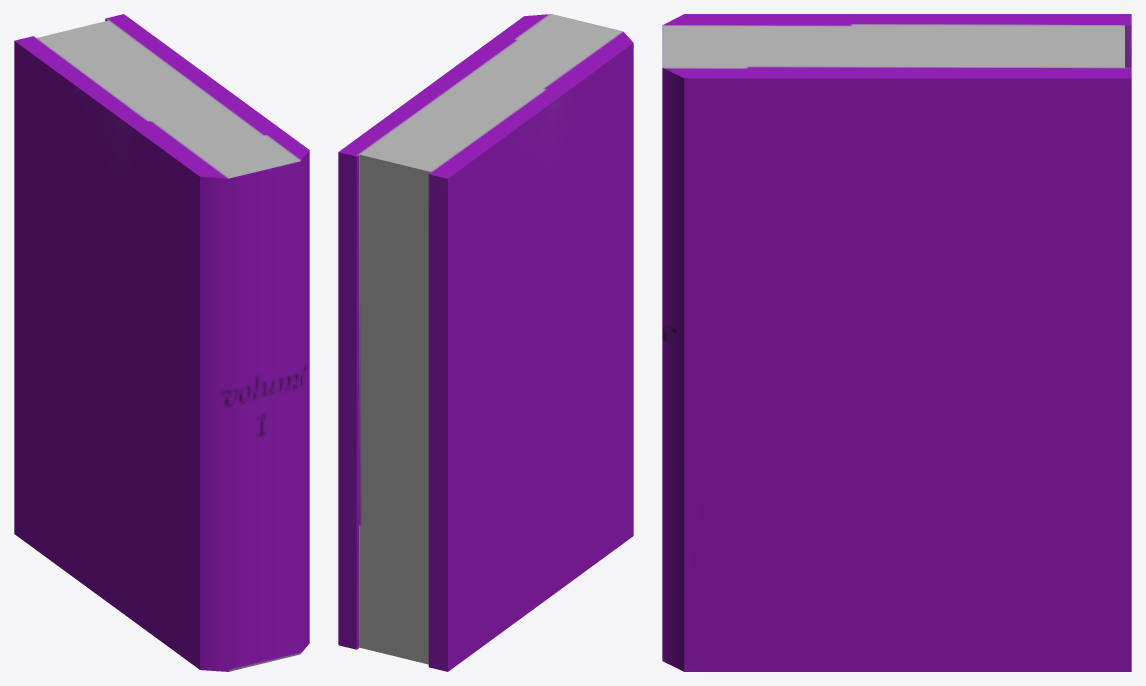
File: book exp resend.fbx
3 views of the same model, side by side, from view 1: azimuth 30°, elevation 25°; view 2: azimuth 150°, elevation 25°; view 3: azimuth 270°, elevation 25° (orthographic). The views are drawn at different scales.
Parts seen in each view (by area): view 1: book; view 2: book; view 3: book.
Part boxes in pixels (<box>): book: <box>14,14,309,671</box>; book: <box>338,14,633,671</box>; book: <box>662,14,1131,671</box>.
Bounding box in the file's own units: 2.08 × 8.94 × 6.4.
